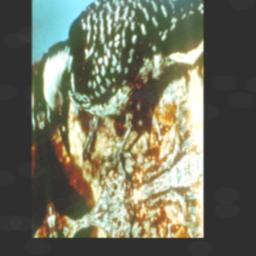Woodpecker: (33, 0, 202, 225)
